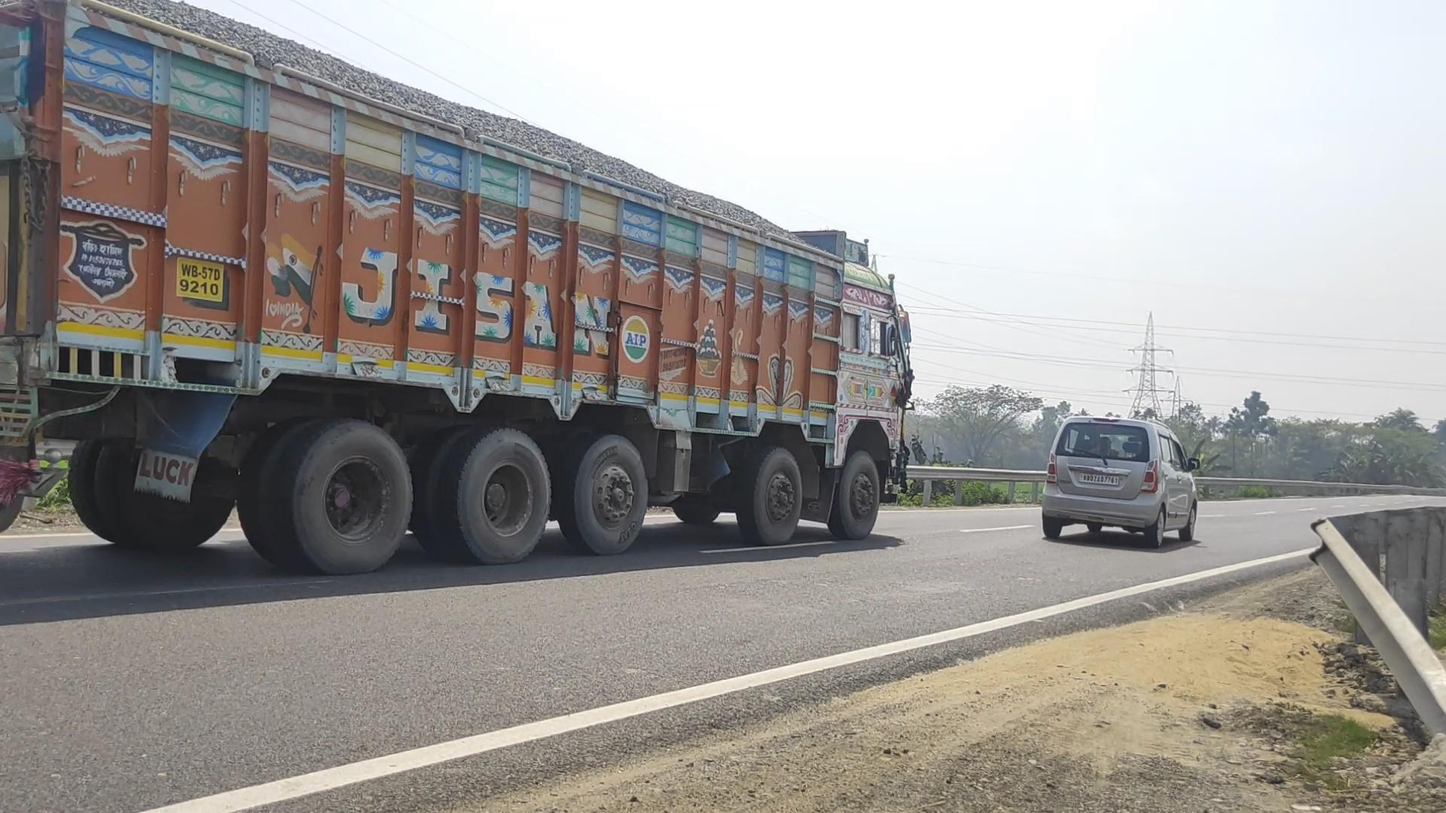car: (1042, 416, 1198, 549)
truck: (1, 1, 914, 578)
